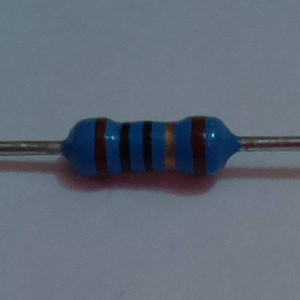black_band: (139, 117, 155, 176), (117, 120, 133, 175)
brown_band: (189, 114, 208, 180), (93, 116, 109, 180)
gold_band: (163, 119, 179, 175)
